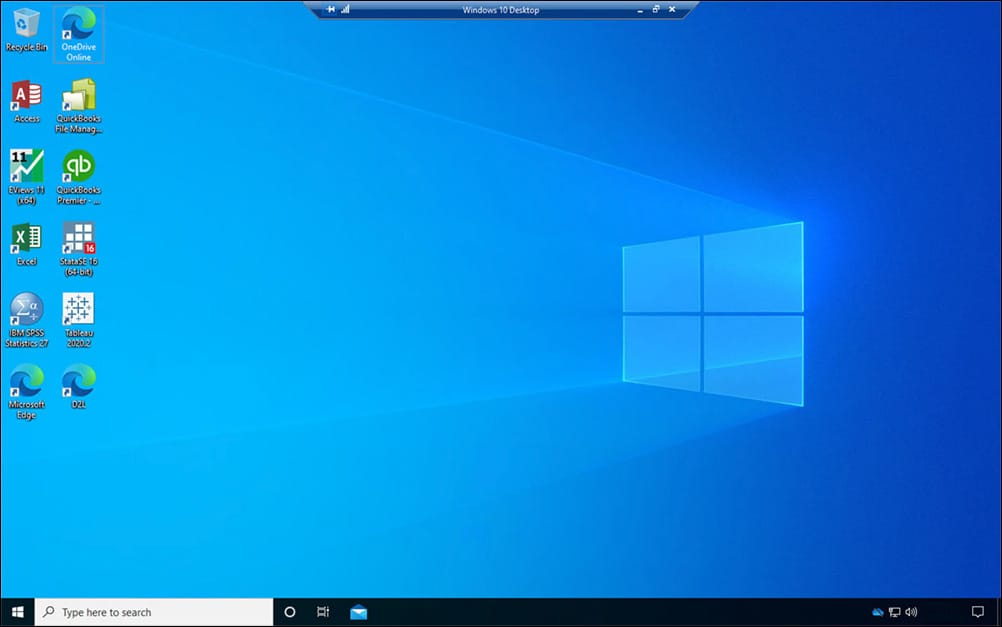search_box: (33, 598, 278, 627)
start_bar: (8, 600, 30, 624)
